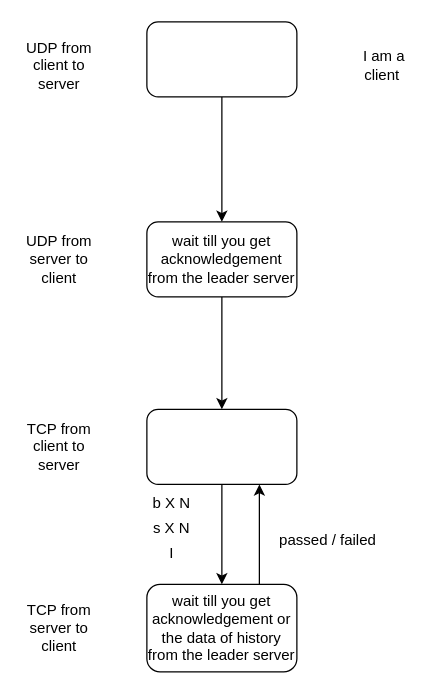
Image size: 443x694. Some labels were removed from this diagram. Here are the shapes that lost their labels. From the top down, the box of each, then its label:
(146, 21, 297, 97): Broadcast server message to start trading
(146, 408, 297, 484): Start trading and get history
